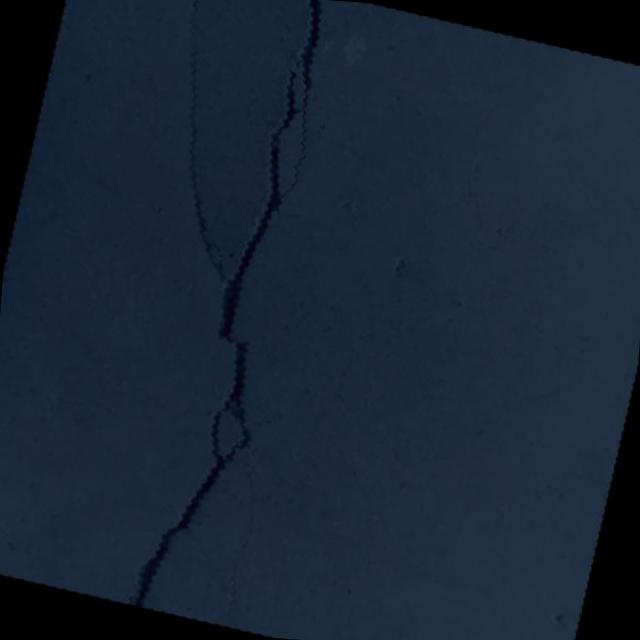crack: (40, 0, 391, 638)
